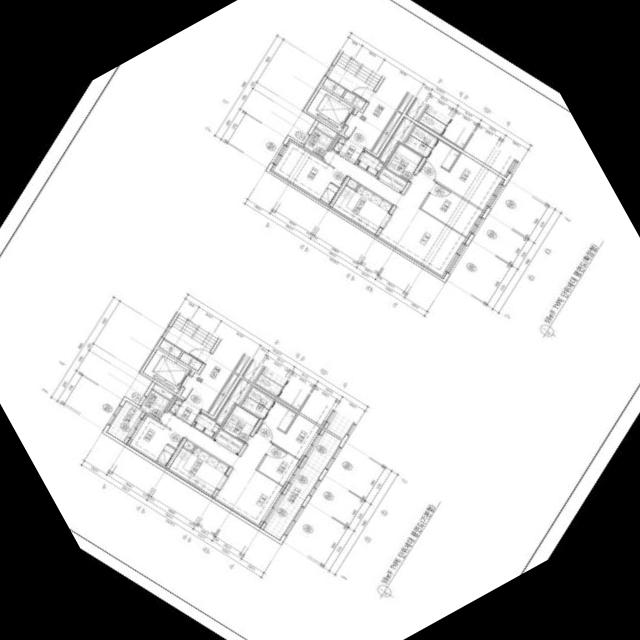background: (0, 0, 640, 640)
space_balconi: (263, 431, 342, 540), (107, 400, 143, 442)
space_bedroom: (270, 138, 347, 206), (420, 152, 505, 211), (421, 182, 485, 237), (126, 412, 184, 468), (256, 414, 322, 460), (258, 444, 302, 487)
space_elevator: (144, 349, 192, 393), (307, 87, 355, 131)
space_elevator_hall: (344, 77, 408, 150), (181, 339, 244, 412)
space_front: (167, 395, 201, 424), (331, 134, 364, 163)
space_kitchen: (168, 446, 230, 497), (332, 184, 393, 235)
space_living_room: (323, 148, 468, 278), (160, 410, 285, 528)
space_other: (215, 378, 252, 424), (379, 116, 415, 162), (373, 111, 402, 154), (209, 373, 238, 415), (378, 167, 408, 191), (357, 150, 384, 176), (194, 412, 221, 438), (215, 429, 244, 453), (343, 90, 366, 109), (160, 339, 182, 358), (323, 78, 346, 96), (180, 352, 202, 370), (316, 121, 337, 138), (153, 383, 174, 399), (398, 92, 414, 112), (235, 354, 250, 374), (183, 440, 195, 451), (347, 178, 358, 189)
space_outdoor_room: (304, 128, 333, 157), (141, 389, 170, 418)
space_staircase: (328, 51, 382, 101), (164, 313, 219, 362)
space_toilet: (241, 386, 297, 432), (405, 125, 460, 170), (386, 143, 423, 181), (222, 404, 259, 442)
